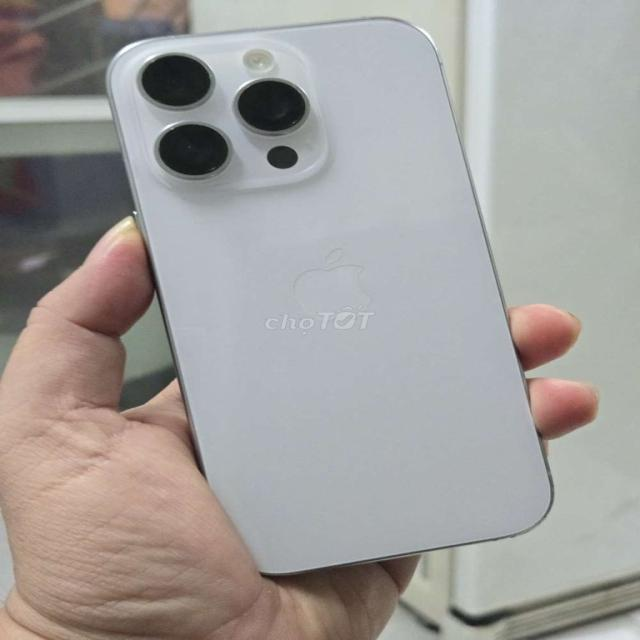gen_16: (109, 18, 552, 574)
